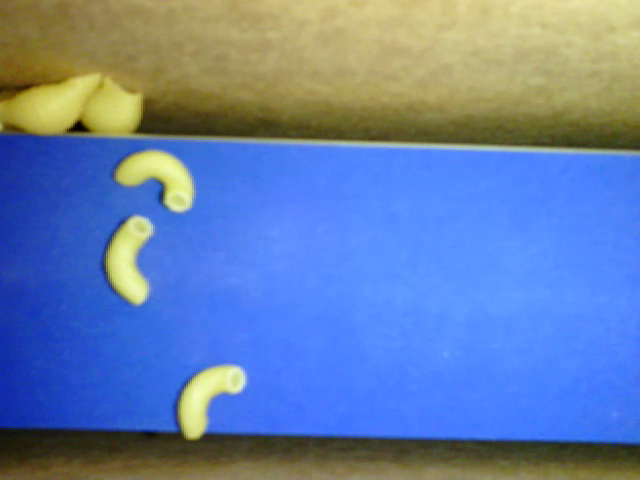elbow: (173, 364, 249, 441), (108, 147, 196, 210), (102, 214, 153, 303)
shell: (1, 68, 107, 139), (82, 80, 144, 137)
